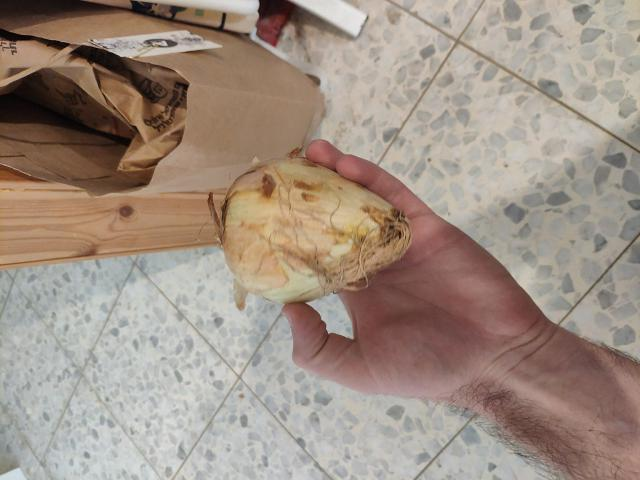onion: (202, 152, 423, 305)
